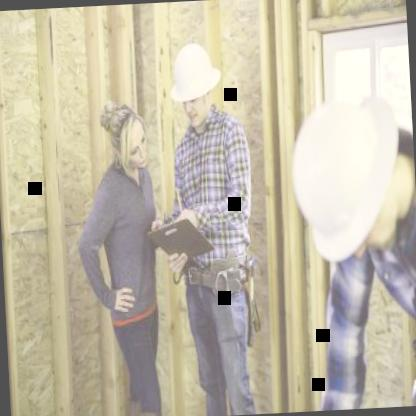head: (102, 99, 156, 179)
helmet: (280, 78, 414, 268), (166, 36, 222, 131)
